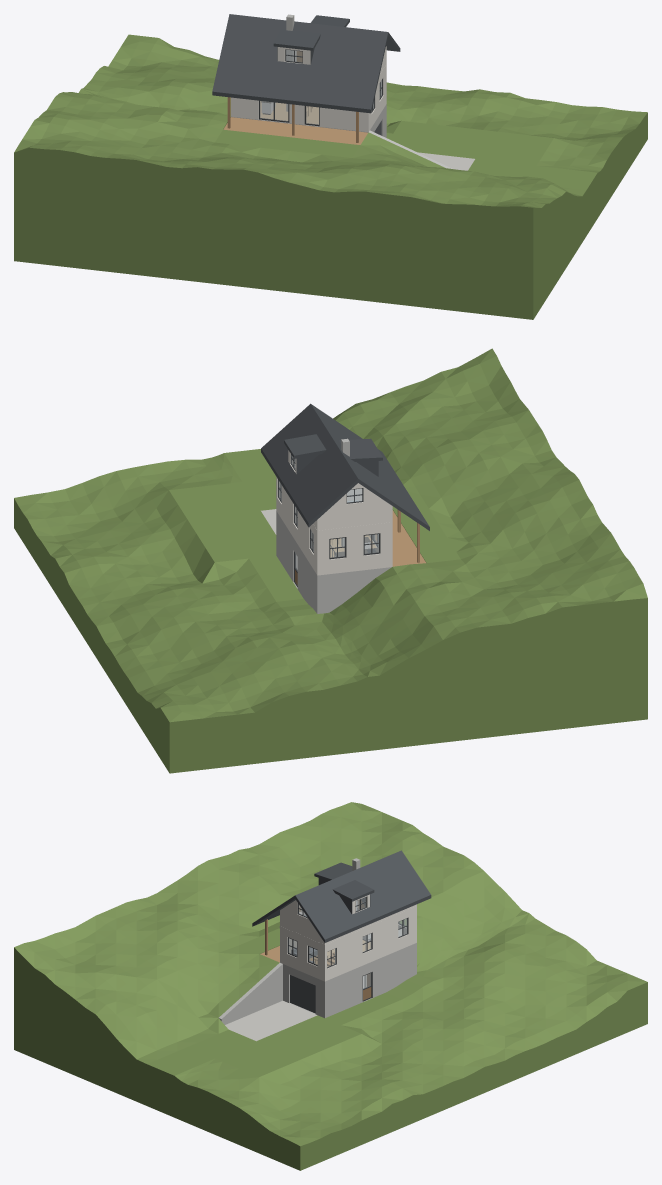
The model's file is chata.glb.
3 views of the same model, one above another, from view 1: azimuth 30°, elevation 25°; view 2: azimuth 150°, elevation 25°; view 3: azimuth 270°, elevation 25° (orthographic). The views are drawn at different scales.
Parts seen in each view (by area): view 1: IfcGeographicElement/Teren | modelovany severovychodni svah, IfcSlab/Strecha SW | pred vikýrem, IfcSlab/Strecha SW | za vikýrem, IfcCovering/Terasa | drevena pochozi vrstva, IfcWall/ground | stena terasa SW, IfcSlab/Strecha SW | k okapu, IfcSlab/Vikyr SW | plocha strecha, IfcDoor/Francouzske dvere | kuchyne terasa, IfcCovering/Podlaha | prizemi, IfcSlab/Vjezd | vodorovna plocha 6 m, IfcWall/ground | celo garaze SE; view 2: IfcGeographicElement/Teren | modelovany severovychodni svah, IfcSlab/Strecha NE | za vikýrem, IfcWall/ground | zadni celo NW, IfcWall/Podkrovi | zadni stit, IfcWall/basement | stena schodiste NE, IfcSlab/Strecha NE | pred vikýrem, IfcWall/ground | stena schodiste NE, IfcSlab/Strecha SW | za vikýrem, IfcWall/basement | zadni celo NW, IfcCovering/Terasa | drevena pochozi vrstva, IfcSlab/Strecha SW | pred vikýrem, IfcSlab/Vikyr NE | plocha strecha (+1 smaller); view 3: IfcGeographicElement/Teren | modelovany severovychodni svah, IfcSlab/Strecha NE | za vikýrem, IfcWall/basement | stena schodiste NE, IfcWall/ground | stena schodiste NE, IfcSlab/Strecha NE | pred vikýrem, IfcSlab/Vjezd | vodorovna plocha 6 m, IfcWall/Operna zed vjezdu SW, IfcWall/ground | celo garaze SE, IfcWall/Podkrovi | predni stit, IfcDoor/Garazova vrata 2600 x 2200, IfcWall/basement | celo garaze SE, IfcSlab/Vikyr NE | plocha strecha.
Part boxes in pixels (x1=…): IfcGeographicElement/Teren | modelovany severovychodni svah: x1=14, y1=34, x2=647, y2=319; IfcSlab/Strecha SW | pred vikýrem: x1=302, y1=24, x2=388, y2=113; IfcSlab/Strecha SW | za vikýrem: x1=212, y1=14, x2=286, y2=101; IfcCovering/Terasa | drevena pochozi vrstva: x1=223, y1=117, x2=367, y2=144; IfcWall/ground | stena terasa SW: x1=231, y1=97, x2=369, y2=132; IfcSlab/Strecha SW | k okapu: x1=269, y1=61, x2=310, y2=105; IfcSlab/Vikyr SW | plocha strecha: x1=273, y1=29, x2=320, y2=50; IfcDoor/Francouzske dvere | kuchyne terasa: x1=259, y1=100, x2=289, y2=122; IfcCovering/Podlaha | prizemi: x1=260, y1=101, x2=318, y2=124; IfcSlab/Vjezd | vodorovna plocha 6 m: x1=418, y1=152, x2=474, y2=170; IfcWall/ground | celo garaze SE: x1=369, y1=68, x2=385, y2=130; IfcGeographicElement/Teren | modelovany severovychodni svah: x1=14, y1=348, x2=647, y2=773; IfcSlab/Strecha NE | za vikýrem: x1=284, y1=441, x2=358, y2=527; IfcWall/ground | zadni celo NW: x1=321, y1=526, x2=389, y2=574; IfcWall/Podkrovi | zadni stit: x1=316, y1=483, x2=392, y2=530; IfcWall/basement | stena schodiste NE: x1=276, y1=514, x2=320, y2=613; IfcSlab/Strecha NE | pred vikýrem: x1=261, y1=404, x2=325, y2=475; IfcWall/ground | stena schodiste NE: x1=276, y1=477, x2=320, y2=575; IfcSlab/Strecha SW | za vikýrem: x1=341, y1=452, x2=429, y2=530; IfcWall/basement | zadni celo NW: x1=321, y1=571, x2=385, y2=613; IfcCovering/Terasa | drevena pochozi vrstva: x1=375, y1=510, x2=425, y2=566; IfcSlab/Strecha SW | pred vikýrem: x1=311, y1=404, x2=402, y2=483; IfcSlab/Vikyr NE | plocha strecha: x1=284, y1=434, x2=326, y2=458; IfcGeographicElement/Teren | modelovany severovychodni svah: x1=14, y1=802, x2=647, y2=1170; IfcSlab/Strecha NE | za vikýrem: x1=348, y1=850, x2=431, y2=920; IfcWall/basement | stena schodiste NE: x1=322, y1=945, x2=416, y2=1018; IfcWall/ground | stena schodiste NE: x1=322, y1=909, x2=416, y2=981; IfcSlab/Strecha NE | pred vikýrem: x1=295, y1=881, x2=358, y2=942; IfcSlab/Vjezd | vodorovna plocha 6 m: x1=225, y1=1000, x2=317, y2=1041; IfcWall/Operna zed vjezdu SW: x1=219, y1=963, x2=282, y2=1024; IfcWall/ground | celo garaze SE: x1=282, y1=929, x2=322, y2=980; IfcWall/Podkrovi | predni stit: x1=280, y1=900, x2=326, y2=944; IfcDoor/Garazova vrata 2600 x 2200: x1=290, y1=975, x2=315, y2=1013; IfcWall/basement | celo garaze SE: x1=283, y1=966, x2=322, y2=1017; IfcSlab/Vikyr NE | plocha strecha: x1=332, y1=880, x2=374, y2=901.
Size of the model in its own units: 43.84 by 12.59 by 43.84.
